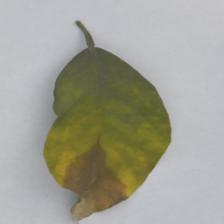black spot: (51, 138, 132, 221)
